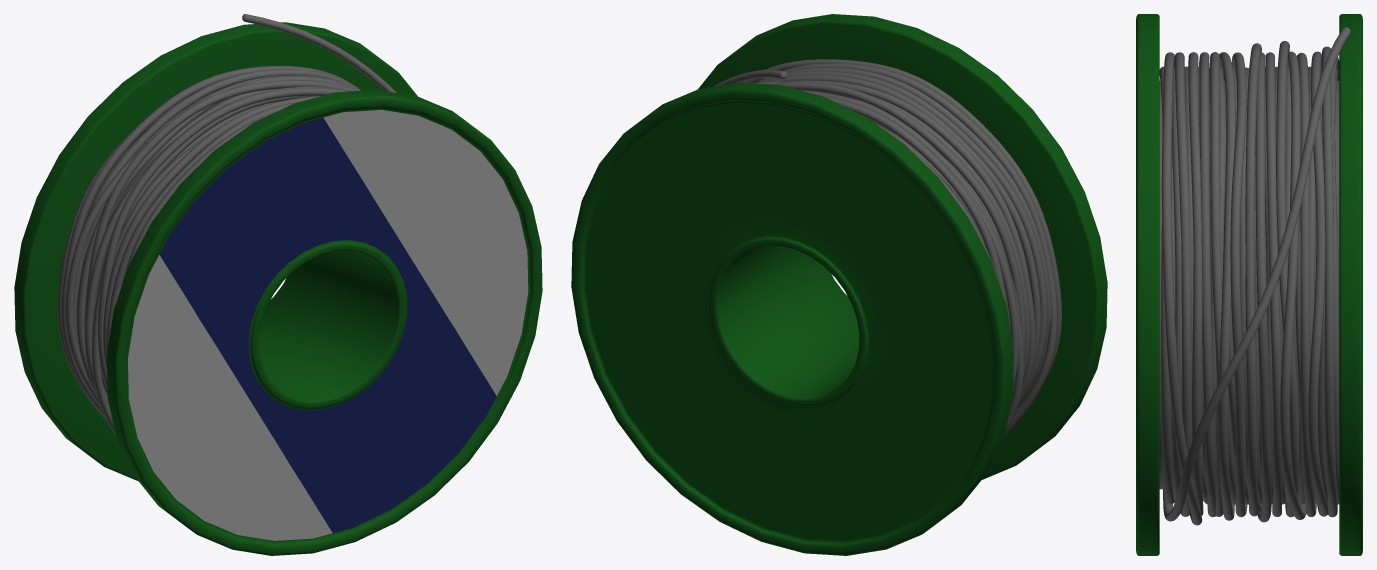
File: scene_solder_wire.obj
3 views of the same model, side by side, from view 1: azimuth 30°, elevation 25°; view 2: azimuth 150°, elevation 25°; view 3: azimuth 270°, elevation 25° (orthographic). The views are drawn at different scales.
Visible parts, largest first — view 1: defaultMaterial.029, defaultMaterial.027, SpiroFit.001; view 2: defaultMaterial.027, SpiroFit.001; view 3: SpiroFit.001, defaultMaterial.027.
Boxes of the visible parts, x1,y1,x2,y2 form: defaultMaterial.029: [128, 110, 528, 540]; defaultMaterial.027: [14, 22, 542, 555]; SpiroFit.001: [58, 14, 396, 434]; defaultMaterial.027: [571, 14, 1107, 555]; SpiroFit.001: [713, 59, 1061, 435]; SpiroFit.001: [1159, 27, 1350, 525]; defaultMaterial.027: [1136, 14, 1362, 555].
Size of the model in its own units: 2159 by 2237 by 904.
